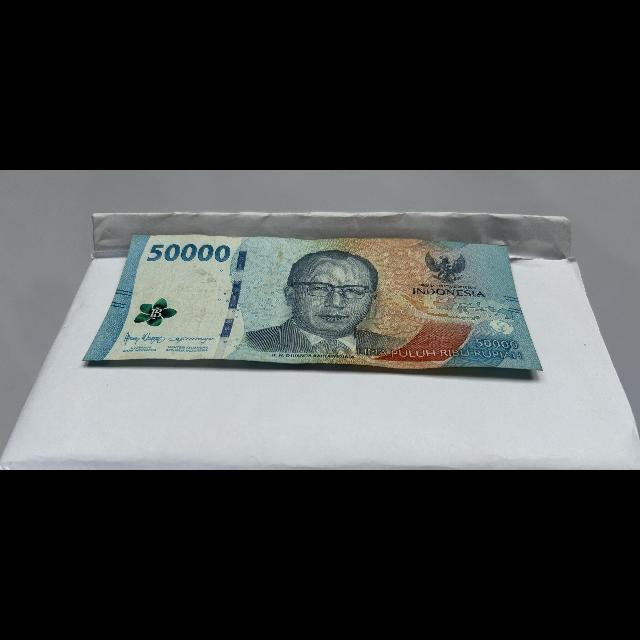Asli-50k: (78, 231, 549, 376)
Tinta-Asli-50k: (132, 294, 181, 330)
